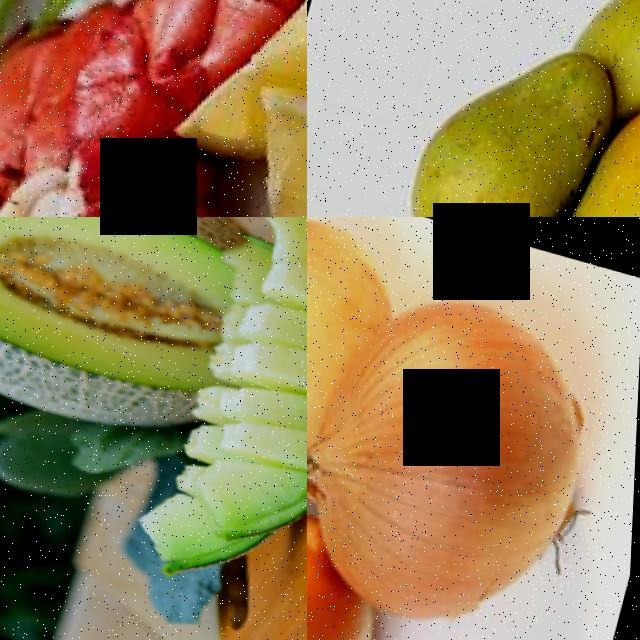lemon: (215, 71, 307, 217)
mango: (396, 10, 612, 217), (555, 85, 640, 217), (570, 0, 640, 94)
melon: (0, 217, 246, 445)
onion: (309, 266, 615, 640), (307, 217, 388, 521)
peanuts: (0, 0, 245, 217)
